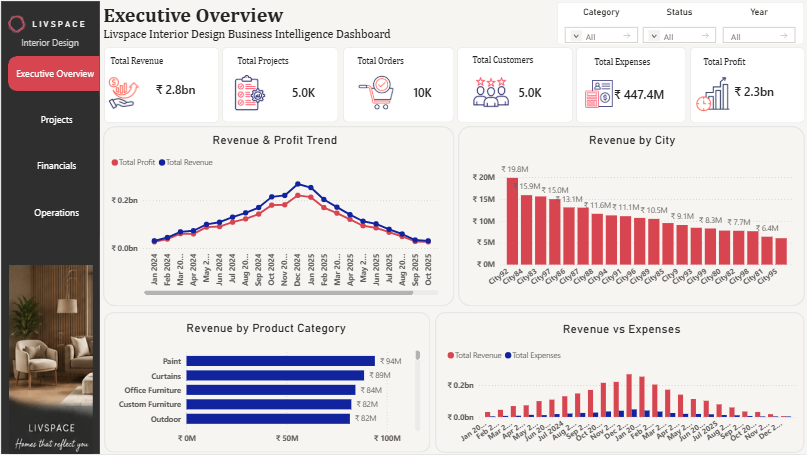

What the dashboard file says about the page in this screenshot:
{"tool":"powerbi","page":{"name":"Page 1","canvas":[1280,720],"ordinal":0},"visuals":[{"type":"textbox","box":[157.5,0,1122.5,75],"z":0},{"type":"shape","box":[0,1.6,157.4,719.7],"z":0,"group":"g1"},{"type":"image","box":[11.8,20.4,29.4,34.7],"z":1000,"group":"g1"},{"type":"shape","box":[161.7,200,558,286.4],"z":1000},{"type":"textbox","box":[44.1,24.5,101.6,36.1],"z":2000,"group":"g1"},{"type":"lineChart","title":"Revenue & Profit Trend","fields":{"Y":["All Measures.Total Profit","All Measures.Total Revenue"],"Category":["Date.Month Year"]},"box":[170.1,206,529.9,267.2],"z":2000},{"type":"textbox","box":[26.5,51.6,115.7,31.4],"z":3000,"group":"g1"},{"type":"shape","box":[724.7,200,550.6,286.4],"z":3000},{"type":"shape","box":[11.2,89.1,145.6,55.6],"z":4000,"group":"g1"},{"type":"shape","box":[162.8,495.7,518.1,223.4],"z":4000},{"type":"columnChart","title":"Revenue by City","fields":{"Category":["cities.city_name"],"Y":["All Measures.Total Revenue"]},"box":[743.2,206.2,518.5,266.7],"z":5000},{"type":"shape","box":[20,151.6,135.7,74.3],"z":6000,"group":"g1"},{"type":"barChart","title":"Revenue by Product Category","fields":{"Y":["All Measures.Product Revenue"],"Category":["product_categories.category_name"]},"box":[171.3,505.3,498.9,208.5],"z":6000},{"type":"shape","box":[689.6,495.5,586.6,223.9],"z":7000},{"type":"image","box":[13.1,421.3,132.8,300],"z":8000,"group":"g1"},{"type":"clusteredColumnChart","title":"Revenue vs Expenses","fields":{"Y":["All Measures.Total Revenue","All Measures.Total Expenses"],"Category":["Date.Month Year"]},"box":[703,506,564.2,207.5],"z":8000},{"type":"actionButton","box":[0,0,100,40],"z":9000},{"type":"shape","box":[883,3.8,392.3,67.3],"z":9000,"group":"g8"},{"type":"group","id":"g1","title":"Group 1","box":[0,1.6,157.4,719.7],"z":10000},{"type":"textSlicer","title":"Category","fields":{"Values":["projects.project_type"]},"box":[892.6,7.8,122.1,62],"z":10000,"group":"g8"},{"type":"shape","box":[162.9,74.2,182.5,120.6],"z":10000,"group":"g2"},{"type":"group","id":"g2","title":"Group 2","box":[162.9,74.2,182.5,120.6],"z":11000},{"type":"cardVisual","title":"Total Revenue","fields":{"Data":["All Measures.Total Revenue"]},"box":[228.3,115.6,111,51.7],"z":11000,"group":"g2"},{"type":"textSlicer","title":"Status","fields":{"Values":["projects.project_status"]},"box":[1016.7,7.8,122.1,59.6],"z":12000,"group":"g8"},{"type":"group","id":"g3","title":"Group 3","box":[351.5,75.3,184.5,119.6],"z":12000},{"type":"textbox","box":[168.3,82.7,95.7,30.5],"z":12000,"group":"g2"},{"type":"textSlicer","title":"Year","fields":{"Values":["orders.order_year"]},"box":[1143.6,7.8,120.8,62],"z":13000,"group":"g8"},{"type":"group","id":"g4","title":"Group 4","box":[542.3,75.3,176.3,119.6],"z":13000},{"type":"image","box":[169.9,119.7,49.9,53.5],"z":13000,"group":"g2"},{"type":"group","id":"g5","title":"Group 5","box":[724.4,74.4,183.5,120.1],"z":14000},{"type":"shape","box":[351.5,75.3,184.5,119.6],"z":14000,"group":"g3"},{"type":"group","id":"g6","title":"Group 6","box":[912.8,74.4,175,120.1],"z":15000},{"type":"shape","box":[542.3,75.3,176.3,119.6],"z":15000,"group":"g4"},{"type":"group","id":"g7","title":"Group 7","box":[1093.3,74,182,120.7],"z":16000},{"type":"shape","box":[1093.3,74,182,120.7],"z":16000,"group":"g7"},{"type":"shape","box":[912.8,74.4,175,120.1],"z":17000,"group":"g6"},{"type":"group","id":"g8","title":"Group 9","box":[883,3.8,392.3,67.3],"z":18000},{"type":"shape","box":[724.4,74.4,183.5,120.1],"z":18000,"group":"g5"},{"type":"cardVisual","title":"Total Revenue","fields":{"Data":["All Measures.Total Projects"]},"box":[423.3,116.4,105.6,60],"z":19000,"group":"g3"},{"type":"textbox","box":[370.3,83.7,95.8,30.3],"z":20000,"group":"g3"},{"type":"image","box":[360.6,119.9,70,55.6],"z":21000,"group":"g3"},{"type":"cardVisual","title":"Total Revenue","fields":{"Data":["All Measures.Total Orders"]},"box":[624.1,116.4,92.3,59.9],"z":22000,"group":"g4"},{"type":"textbox","box":[559.6,83.9,95.9,30.2],"z":23000,"group":"g4"},{"type":"image","box":[559.6,119.9,70,55.6],"z":24000,"group":"g4"},{"type":"cardVisual","title":"Total Revenue","fields":{"Data":["All Measures.Total Customers"]},"box":[792.2,114.5,101.1,61.1],"z":25000,"group":"g5"},{"type":"image","box":[743.3,117.8,70,56.7],"z":26000,"group":"g5"},{"type":"textbox","box":[743.3,81.3,115.6,31.1],"z":27000,"group":"g5"},{"type":"cardVisual","title":"Total Revenue","fields":{"Data":["All Measures.Total Expenses"]},"box":[937.1,120,145.6,55.6],"z":28000,"group":"g6"},{"type":"image","box":[927.8,122.2,44.4,54.4],"z":29000,"group":"g6"},{"type":"textbox","box":[937.3,83.3,115.6,31.1],"z":30000,"group":"g6"},{"type":"cardVisual","title":"Total Revenue","fields":{"Data":["All Measures.Total Profit"]},"box":[1134.3,112.5,127.7,63.1],"z":31000,"group":"g7"},{"type":"image","box":[1102,118.6,57.1,60.3],"z":32000,"group":"g7"},{"type":"textbox","box":[1109.4,83.5,115.6,31.1],"z":33000,"group":"g7"},{"type":"shape","box":[20,226,135.7,74.3],"z":42000,"group":"g1"},{"type":"shape","box":[20,300.4,135.7,74.3],"z":43000,"group":"g1"}]}

Visuals, with their boxes on the page's 1280x720 design canvas (x1, y1, x2, y2). These are canvas units, not pixel positions in the 807x455 screenshot, which may show the page scaled, cropped or inside an application window:
textbox: [158,0,1280,75]
shape: [0,2,157,721]
image: [12,20,41,55]
shape: [162,200,720,486]
textbox: [44,24,146,61]
"Revenue & Profit Trend" lineChart: [170,206,700,473]
textbox: [26,52,142,83]
shape: [725,200,1275,486]
shape: [11,89,157,145]
shape: [163,496,681,719]
"Revenue by City" columnChart: [743,206,1262,473]
shape: [20,152,156,226]
"Revenue by Product Category" barChart: [171,505,670,714]
shape: [690,496,1276,719]
image: [13,421,146,721]
"Revenue vs Expenses" clusteredColumnChart: [703,506,1267,714]
actionButton: [0,0,100,40]
shape: [883,4,1275,71]
"Group 1" group: [0,2,157,721]
"Category" textSlicer: [893,8,1015,70]
shape: [163,74,345,195]
"Group 2" group: [163,74,345,195]
"Total Revenue" cardVisual: [228,116,339,167]
"Status" textSlicer: [1017,8,1139,67]
"Group 3" group: [352,75,536,195]
textbox: [168,83,264,113]
"Year" textSlicer: [1144,8,1264,70]
"Group 4" group: [542,75,719,195]
image: [170,120,220,173]
"Group 5" group: [724,74,908,194]
shape: [352,75,536,195]
"Group 6" group: [913,74,1088,194]
shape: [542,75,719,195]
"Group 7" group: [1093,74,1275,195]
shape: [1093,74,1275,195]
shape: [913,74,1088,194]
"Group 9" group: [883,4,1275,71]
shape: [724,74,908,194]
"Total Revenue" cardVisual: [423,116,529,176]
textbox: [370,84,466,114]
image: [361,120,431,176]
"Total Revenue" cardVisual: [624,116,716,176]
textbox: [560,84,656,114]
image: [560,120,630,176]
"Total Revenue" cardVisual: [792,114,893,176]
image: [743,118,813,174]
textbox: [743,81,859,112]
"Total Revenue" cardVisual: [937,120,1083,176]
image: [928,122,972,177]
textbox: [937,83,1053,114]
"Total Revenue" cardVisual: [1134,112,1262,176]
image: [1102,119,1159,179]
textbox: [1109,84,1225,115]
shape: [20,226,156,300]
shape: [20,300,156,375]
